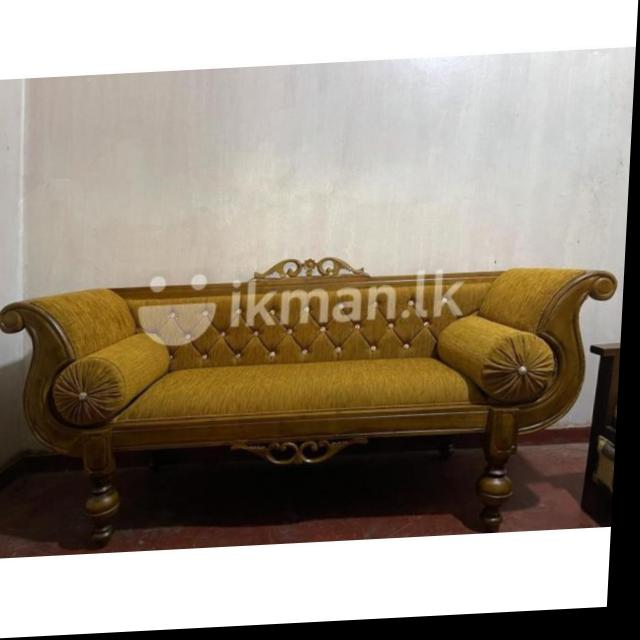Sofa: (0, 268, 608, 550)
